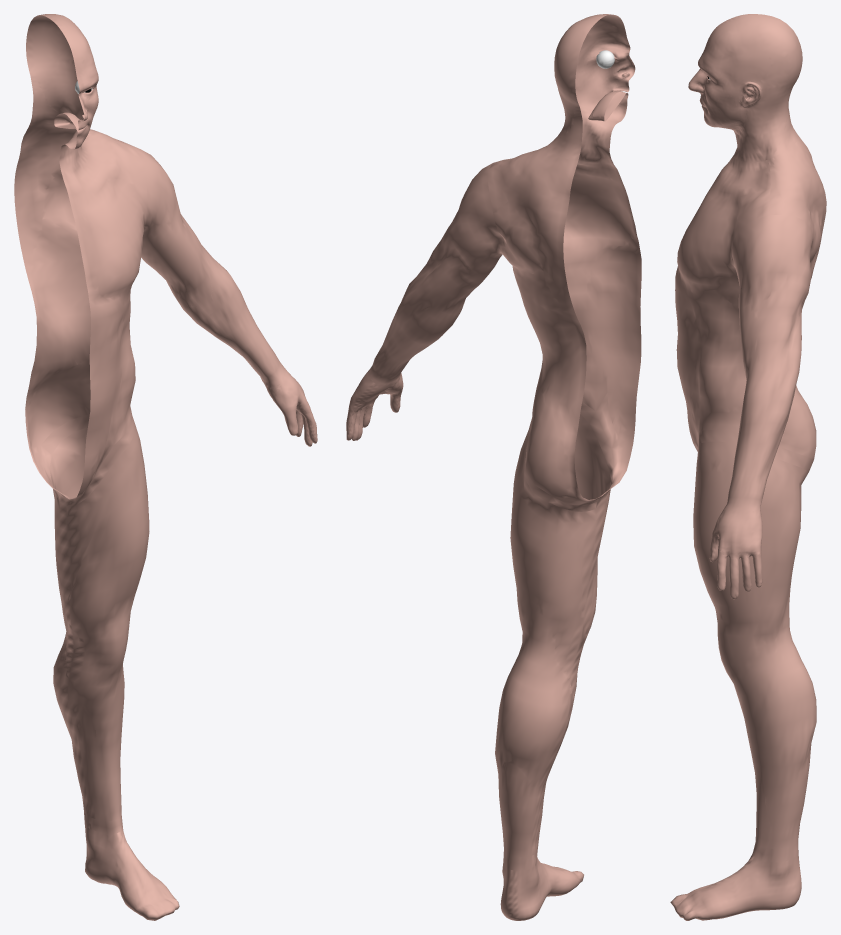
The model's file is Male2.glb.
3 renders of one model, left to right at view 1: azimuth 30°, elevation 25°; view 2: azimuth 150°, elevation 25°; view 3: azimuth 270°, elevation 25°, orthographic. The views are drawn at different scales.
Parts seen in each view (by area): view 1: IKKE RØR ORIGINALEN; view 2: IKKE RØR ORIGINALEN; view 3: IKKE RØR ORIGINALEN.
Boxes of the visible parts, x1=… form: IKKE RØR ORIGINALEN: x1=14, y1=14, x2=317, y2=920; IKKE RØR ORIGINALEN: x1=346, y1=14, x2=641, y2=920; IKKE RØR ORIGINALEN: x1=670, y1=14, x2=826, y2=920.
Size of the model in its own units: 0.5935 by 2 by 0.3284.
